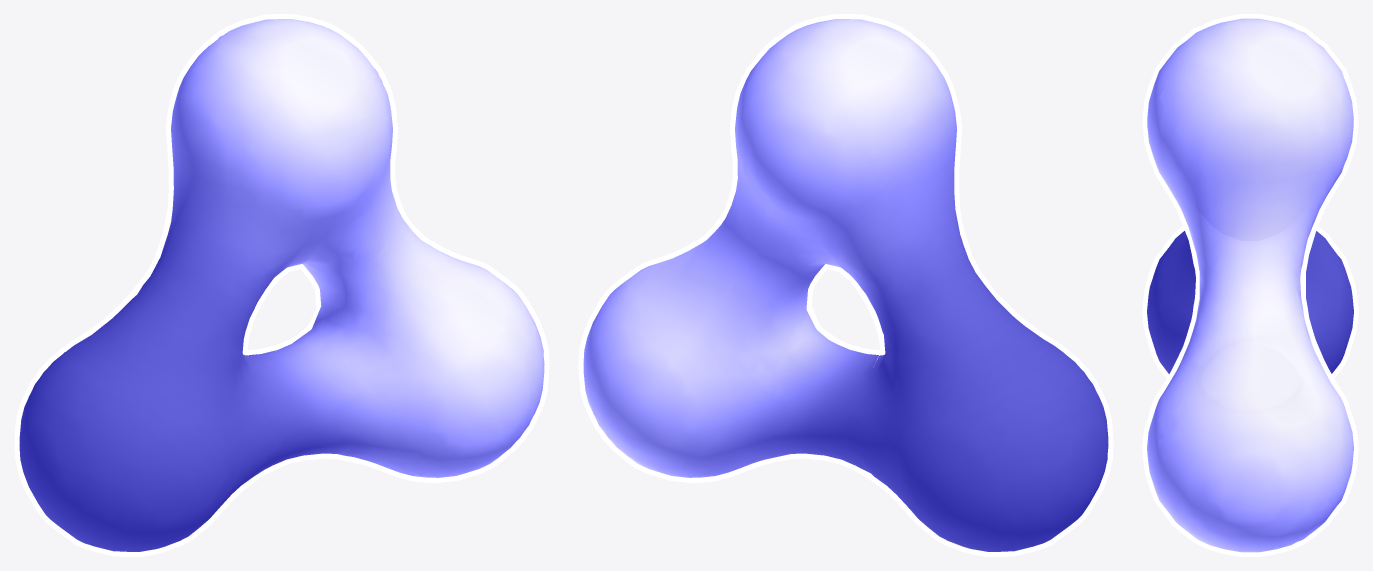
Rendered from triplet_structure.glb.
The picture shows the model from 3 angles, left to right: view 1: azimuth 30°, elevation 25°; view 2: azimuth 150°, elevation 25°; view 3: azimuth 270°, elevation 25°; orthographic projection. The views are drawn at different scales.
Visible parts, largest first — view 1: Triplet, Triplet.001; view 2: Triplet, Triplet.001; view 3: Triplet, Triplet.001.
Part boxes in pixels (x1,y1,x2,y2): Triplet: [19, 19, 544, 551]; Triplet.001: [14, 14, 549, 556]; Triplet: [583, 19, 1108, 551]; Triplet.001: [578, 14, 1113, 556]; Triplet: [1147, 18, 1353, 552]; Triplet.001: [1142, 14, 1358, 556].
Size of the model in its own units: 5.74 by 5.27 by 2.28.
2 materials, 1 textured.
